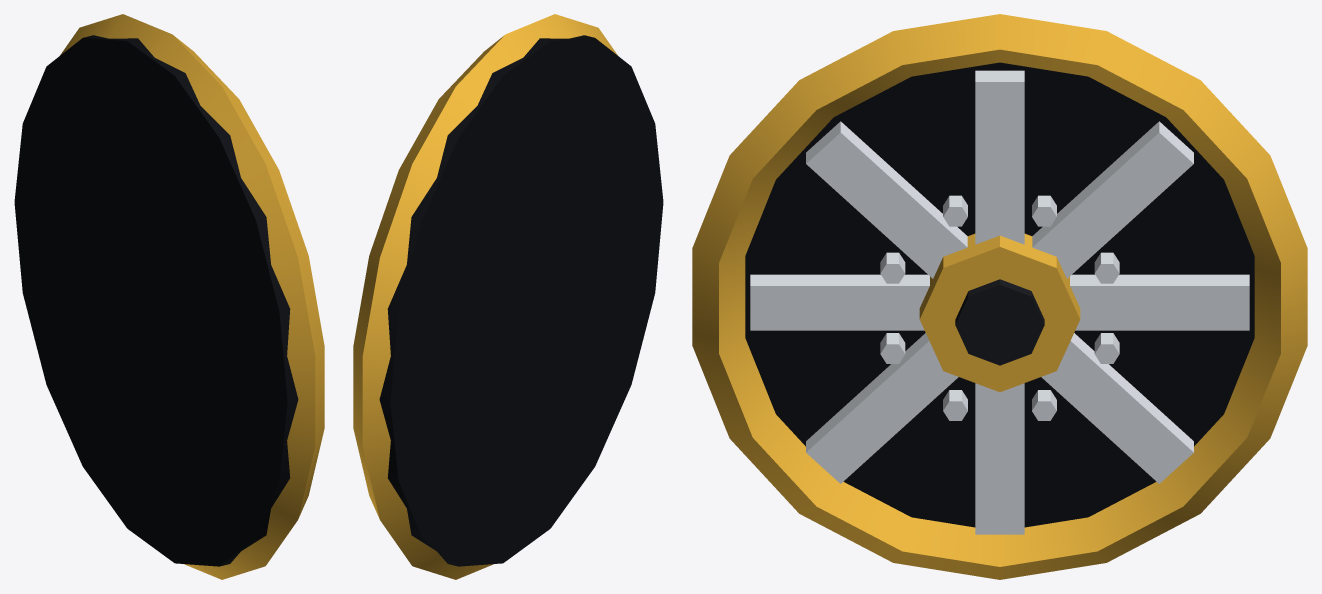
The model's file is hub_star_gold.glb.
3 views of the same model, side by side, from view 1: azimuth 30°, elevation 25°; view 2: azimuth 150°, elevation 25°; view 3: azimuth 270°, elevation 25° (orthographic). The views are drawn at different scales.
Parts seen in each view (by area): view 1: hub_star_gold_deco_trim, hub_star_gold_paint_gold; view 2: hub_star_gold_deco_trim, hub_star_gold_paint_gold; view 3: hub_star_gold_paint_gold, hub_star_gold_deco_trim, hub_star_gold_chrome, hub_star_gold_deco_body.
Boxes of the visible parts, x1=… form: hub_star_gold_deco_trim: x1=14, y1=35, x2=298, y2=566; hub_star_gold_paint_gold: x1=60, y1=14, x2=324, y2=579; hub_star_gold_deco_trim: x1=379, y1=35, x2=663, y2=566; hub_star_gold_paint_gold: x1=353, y1=14, x2=617, y2=579; hub_star_gold_paint_gold: x1=692, y1=14, x2=1307, y2=579; hub_star_gold_deco_trim: x1=745, y1=62, x2=1254, y2=527; hub_star_gold_chrome: x1=750, y1=70, x2=1249, y2=534; hub_star_gold_deco_body: x1=955, y1=279, x2=1044, y2=365.
Bounding box in the file's own units: 0.105 × 0.7 × 0.6894.
